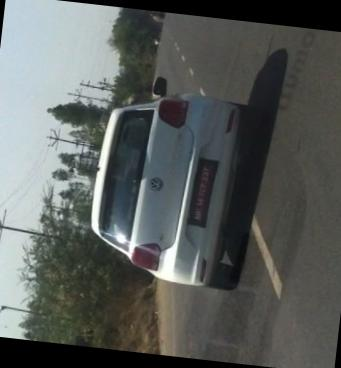plate: (175, 148, 230, 245)
